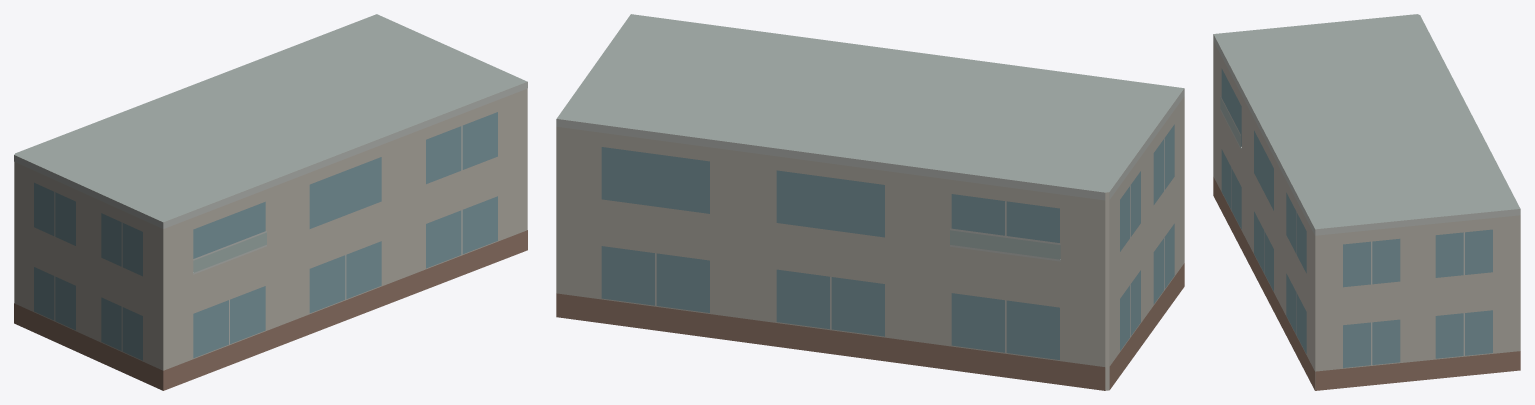
The model's file is survey-upis-32867247.glb.
The picture shows the model from 3 angles, left to right: view 1: azimuth 30°, elevation 25°; view 2: azimuth 150°, elevation 25°; view 3: azimuth 270°, elevation 25°; orthographic projection. The views are drawn at different scales.
Parts seen in each view (by area): view 1: survey-upis-32867247.tmp; view 2: survey-upis-32867247.tmp; view 3: survey-upis-32867247.tmp.
Part boxes in pixels (<box>): survey-upis-32867247.tmp: <box>14,14,527,390</box>; survey-upis-32867247.tmp: <box>556,14,1184,390</box>; survey-upis-32867247.tmp: <box>1213,14,1520,390</box>.
Size of the model in its own units: 17.45 by 6.1 by 10.52.
